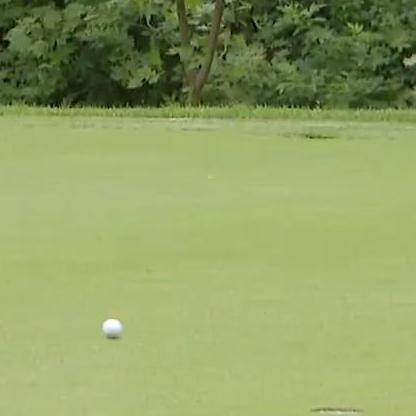golfball: (98, 314, 121, 337)
